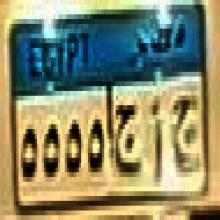5: (86, 115, 106, 177), (64, 119, 85, 176), (42, 121, 61, 184), (19, 126, 40, 180)
alif: (147, 98, 166, 180)
jeem: (170, 89, 200, 182), (113, 94, 142, 178)
